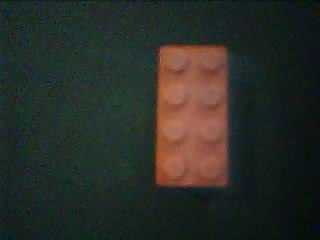lego: (154, 44, 230, 187)
